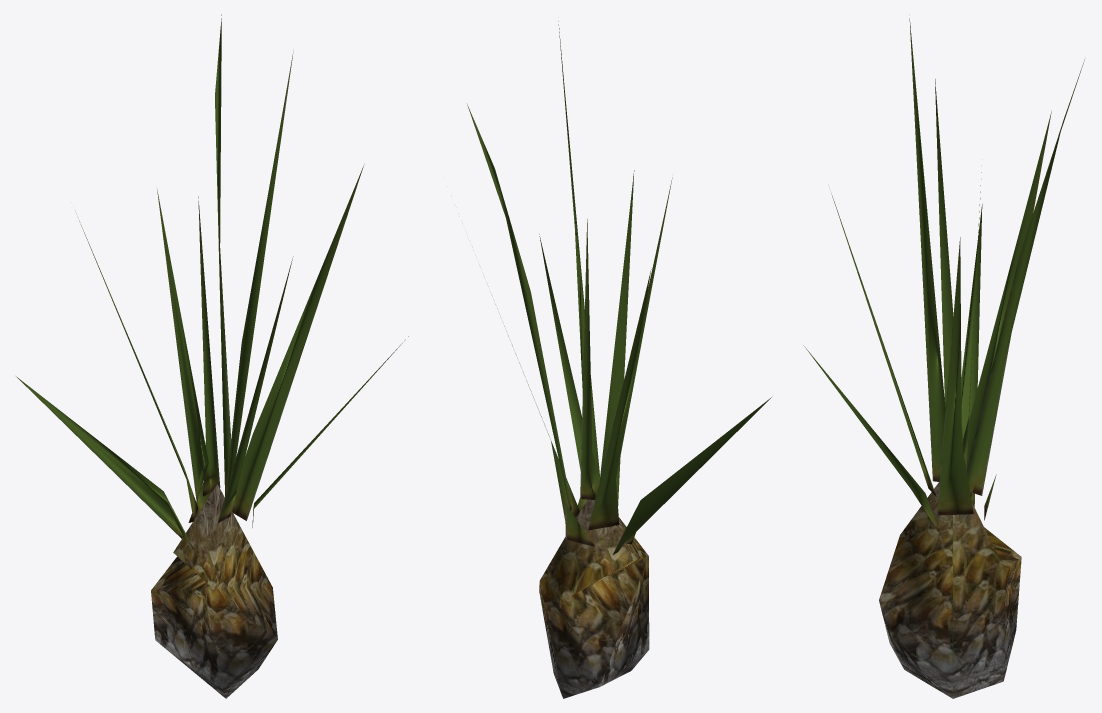
The model's file is tree_palm_far.gltf.
The picture shows the model from 3 angles, left to right: view 1: azimuth 30°, elevation 25°; view 2: azimuth 150°, elevation 25°; view 3: azimuth 270°, elevation 25°; orthographic projection. The views are drawn at different scales.
Parts seen in each view (by area): view 1: tree_palm_far; view 2: tree_palm_far; view 3: tree_palm_far.
Part boxes in pixels (box(x1,y1,x2,y2)): tree_palm_far: box(16, 14, 408, 698); tree_palm_far: box(467, 21, 771, 698); tree_palm_far: box(803, 18, 1084, 698).
Size of the model in its own units: 5.24 by 9.32 by 3.48.
Materials: 1 (1 with a texture image).
